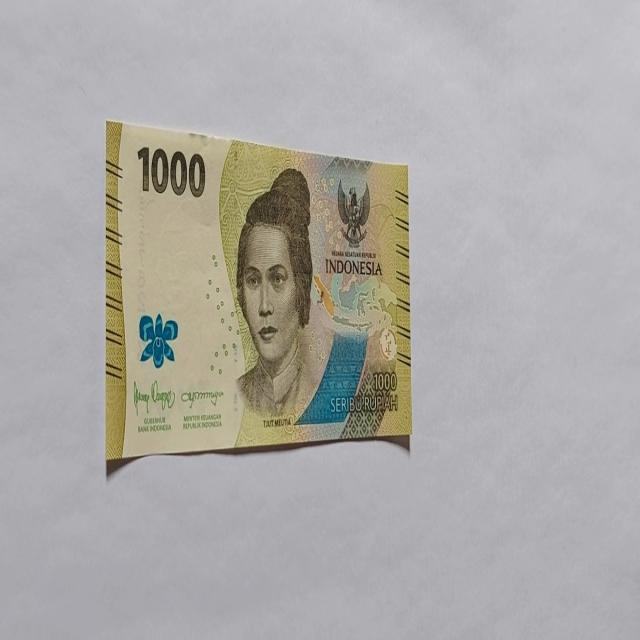seribu rupiah kertas: (105, 118, 412, 470)
